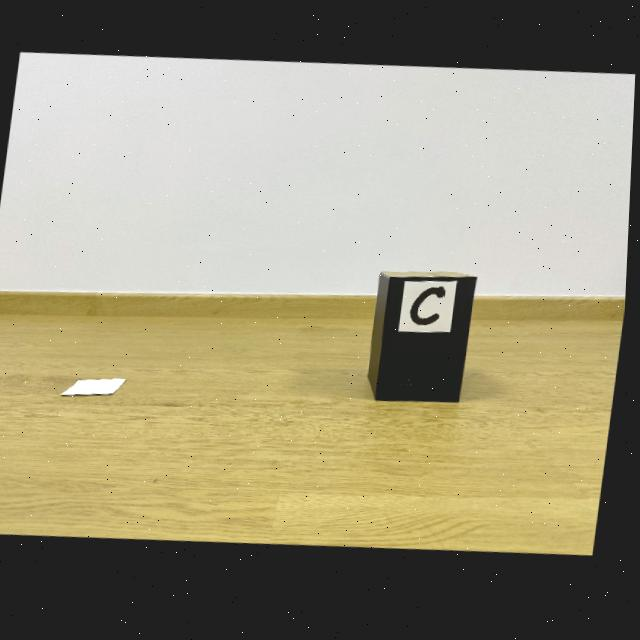C: (413, 292, 447, 331)
